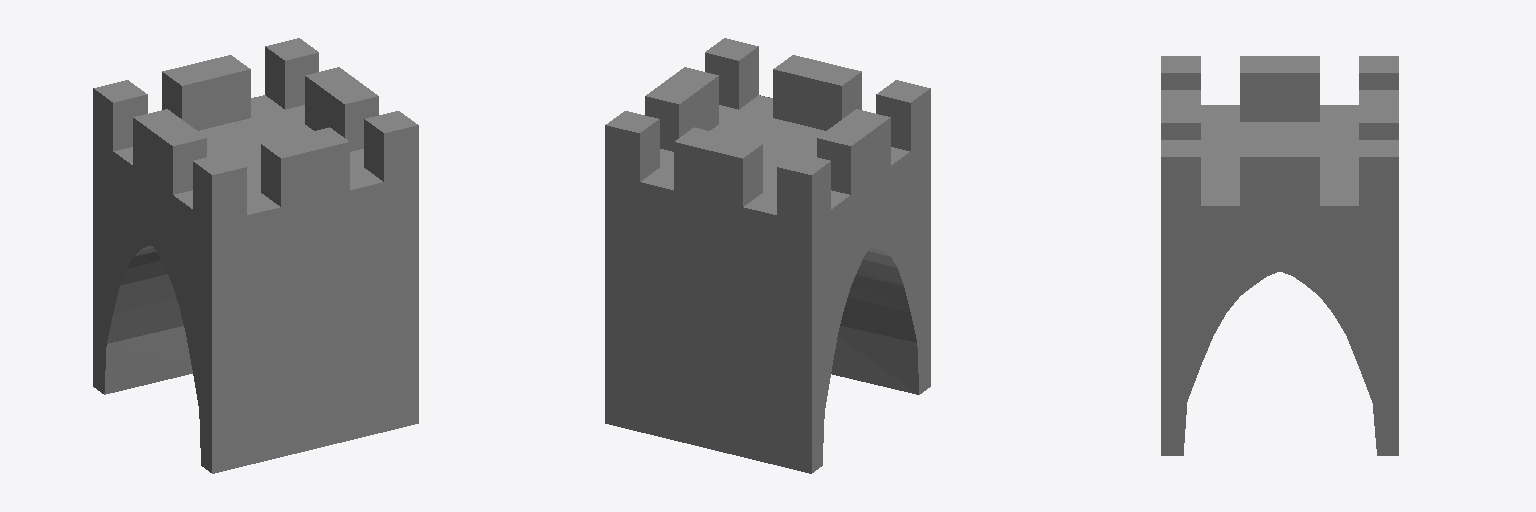
File: door.obj
3 views of the same model, side by side, from view 1: azimuth 30°, elevation 25°; view 2: azimuth 150°, elevation 25°; view 3: azimuth 270°, elevation 25° (orthographic).
Visible parts, largest first — view 1: Box001; view 2: Box001; view 3: Box001.
Boxes of the visible parts, x1=… form: Box001: x1=93, y1=38, x2=418, y2=473; Box001: x1=605, y1=38, x2=930, y2=473; Box001: x1=1161, y1=56, x2=1398, y2=455.
Size of the model in its own units: 100 by 138 by 100.